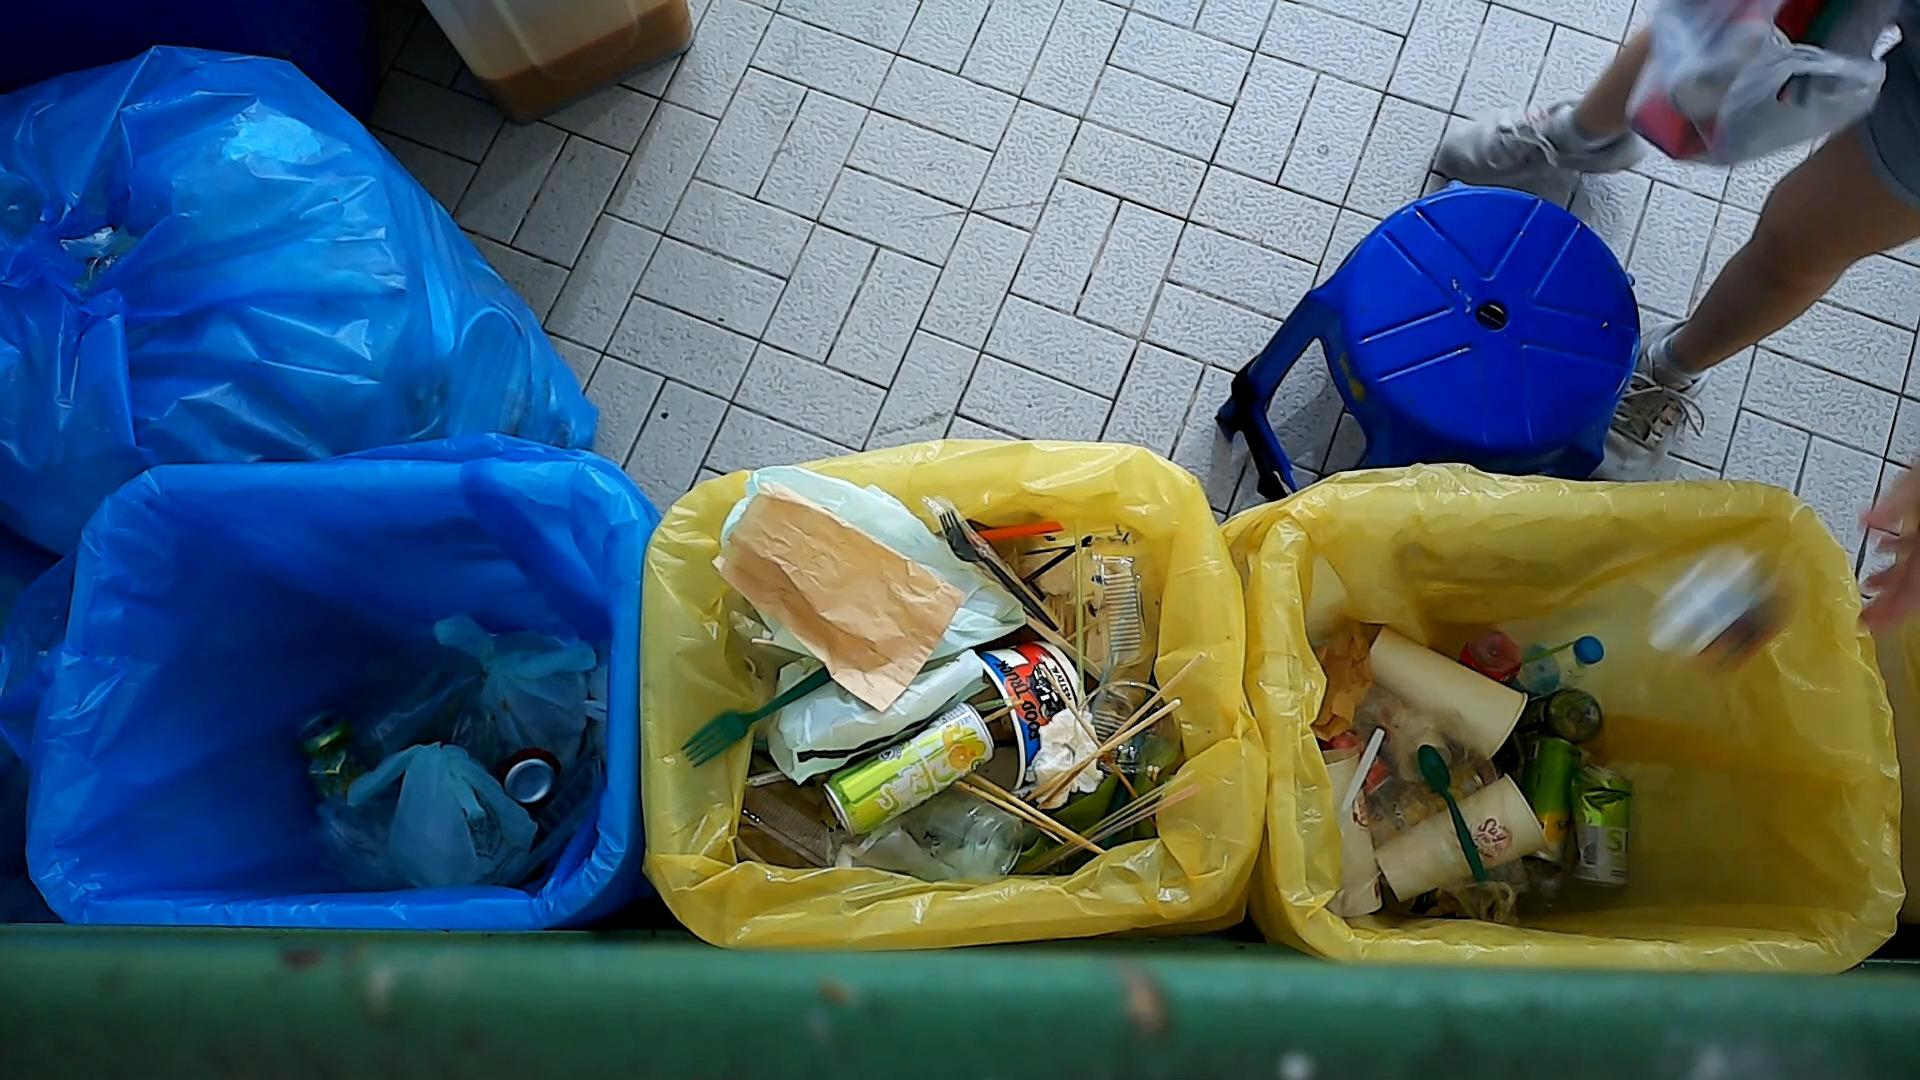can: (824, 698, 996, 841), (1567, 770, 1648, 907), (280, 700, 357, 820), (1522, 733, 1585, 874), (488, 742, 563, 807)
filled plastic bag: (717, 462, 1018, 657), (435, 592, 597, 812), (749, 651, 1001, 783), (360, 757, 560, 895)
food container: (956, 628, 1089, 790), (1073, 547, 1159, 675)
paper bag: (712, 480, 965, 716), (1311, 617, 1373, 746)
plastic bottle: (1502, 625, 1605, 709), (1522, 676, 1613, 745)
plastic cup: (909, 785, 1034, 894)
plastic cutlery: (676, 658, 848, 769), (935, 495, 1063, 633), (1408, 745, 1474, 898), (1320, 719, 1385, 841)
sticks: (1026, 642, 1204, 808), (943, 766, 1110, 862)
straw: (1011, 748, 1213, 885), (972, 516, 1085, 550), (1068, 542, 1091, 678)
tissue paper: (1029, 703, 1105, 808)
zero waste cup: (1353, 622, 1530, 766), (1381, 765, 1549, 906), (1308, 748, 1390, 920)
